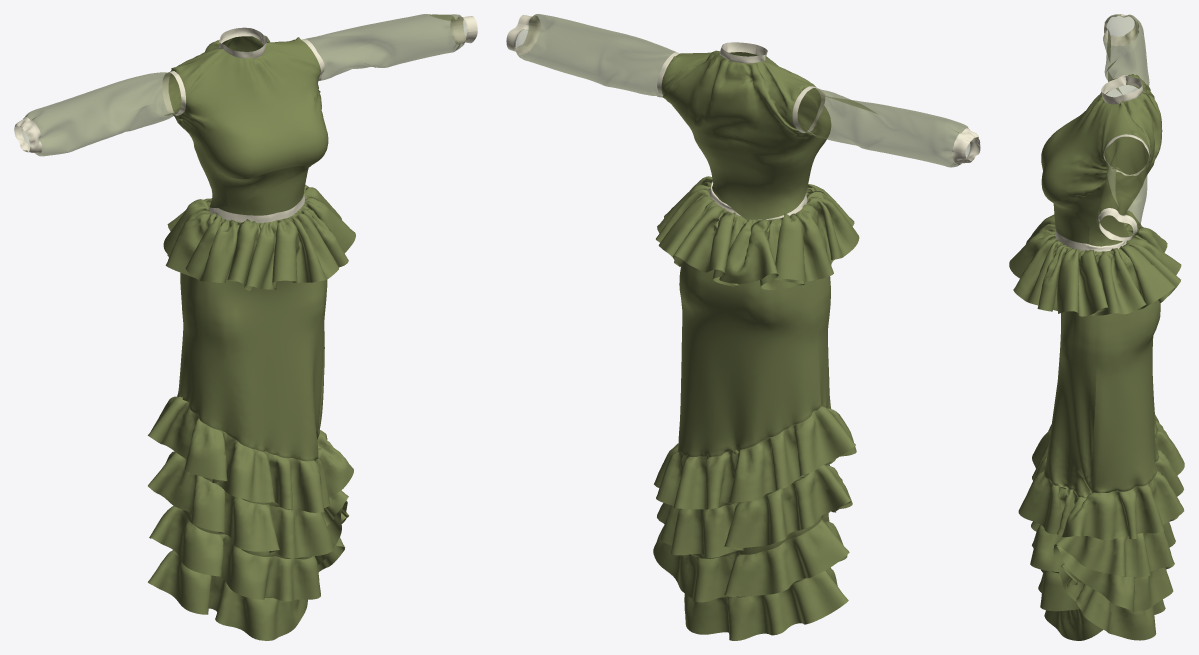
The model's file is G_clothe_Olive.glb.
3 views of the same model, side by side, from view 1: azimuth 30°, elevation 25°; view 2: azimuth 150°, elevation 25°; view 3: azimuth 270°, elevation 25° (orthographic). The views are drawn at different scales.
Parts seen in each view (by area): view 1: Garment; view 2: Garment; view 3: Garment.
Boxes of the visible parts, x1,y1,x2,y2 form: Garment: (14,14,477,640); Garment: (506,14,980,640); Garment: (1009,14,1184,640).
Bounding box in the file's own units: 1.15 × 1.41 × 0.4118.
Materials: 1 (1 with a texture image).
